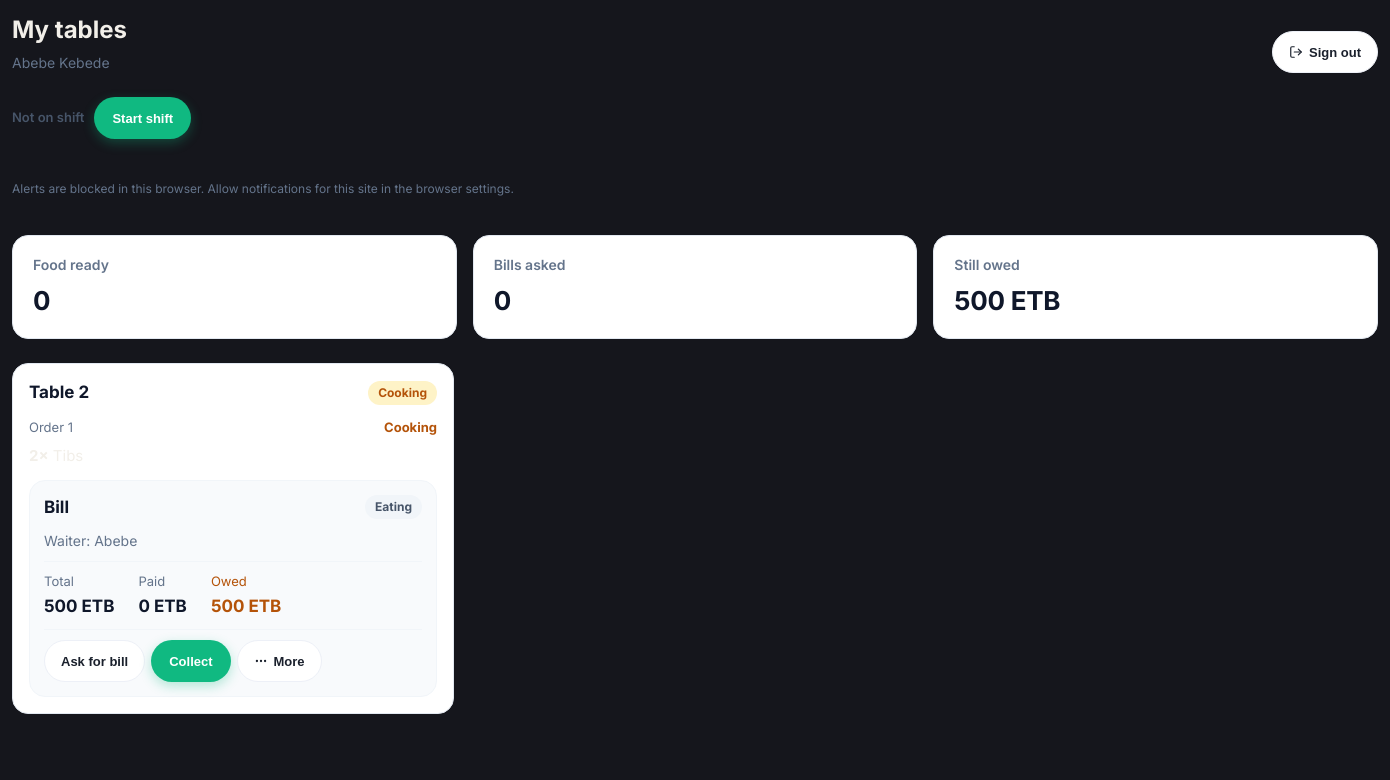
Test: WaiterTablesScreen layout › keeps the less common bill actions behind More
Expected: the button "Collect" is shown, [151,640,230,682]
Expected: the text "Move or join table" is not shown
Click the button "More".
click(279, 661)  # box [236,640,322,682]
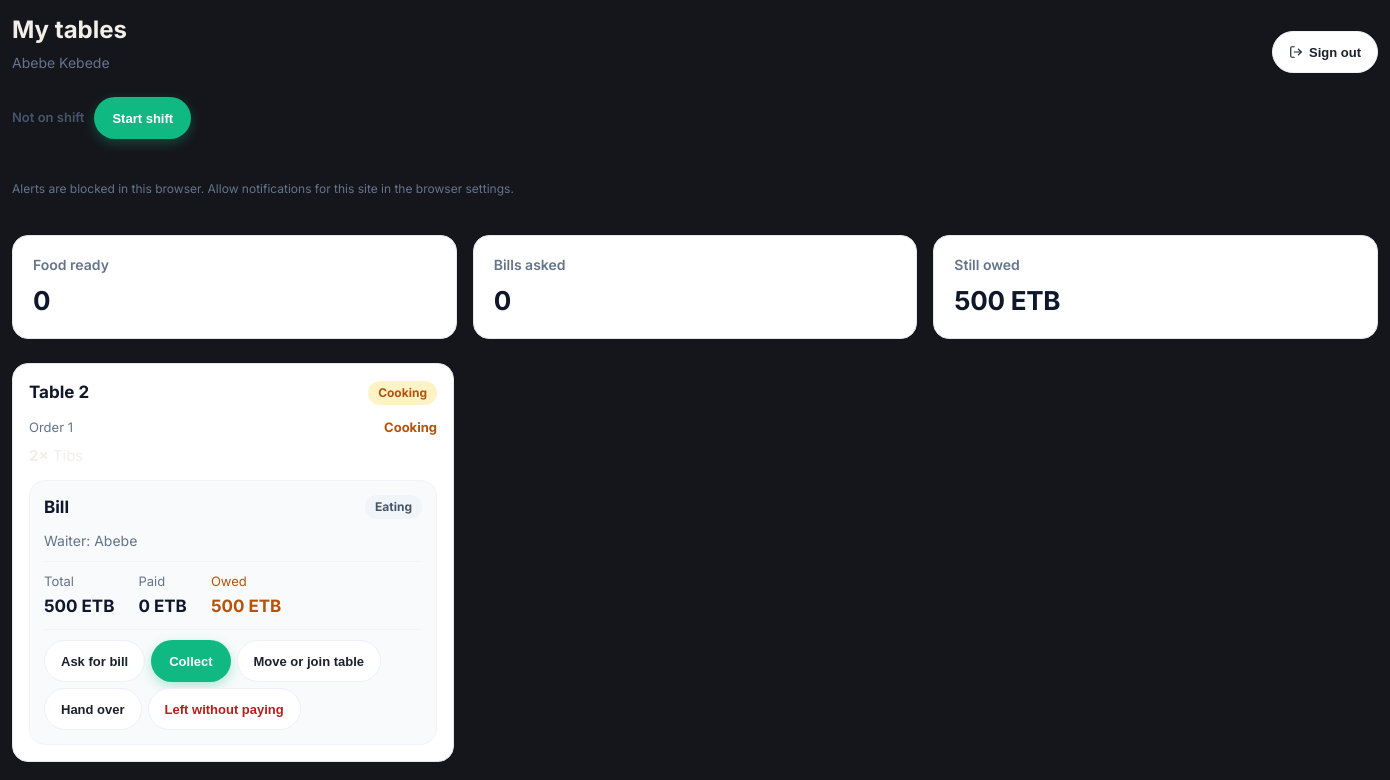
Now the button "Move or join table" is shown, box [236,640,381,682]
Now the button "Left without paying" is shown, box [148,688,301,730]
